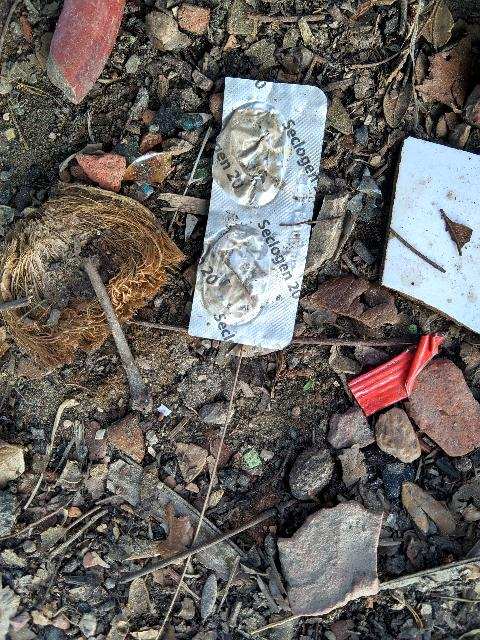medicine: (167, 84, 340, 346)
